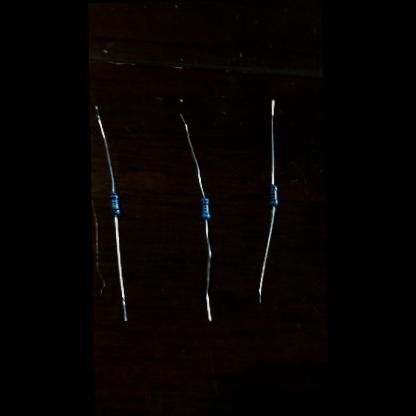resistor: (268, 184, 278, 206), (109, 192, 119, 214), (200, 198, 210, 218)
wire: (180, 114, 204, 197), (258, 206, 276, 302), (96, 106, 114, 192), (113, 216, 126, 322), (204, 219, 212, 321), (269, 100, 275, 184)
